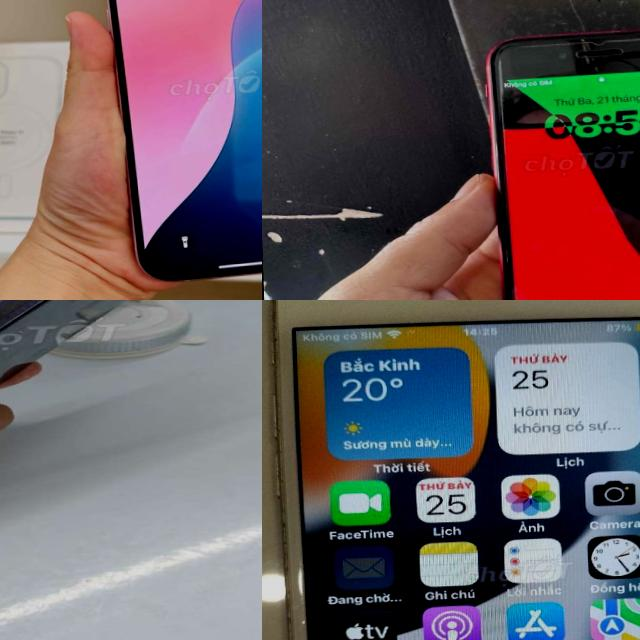scratch: (0, 300, 61, 321), (576, 35, 588, 44)
